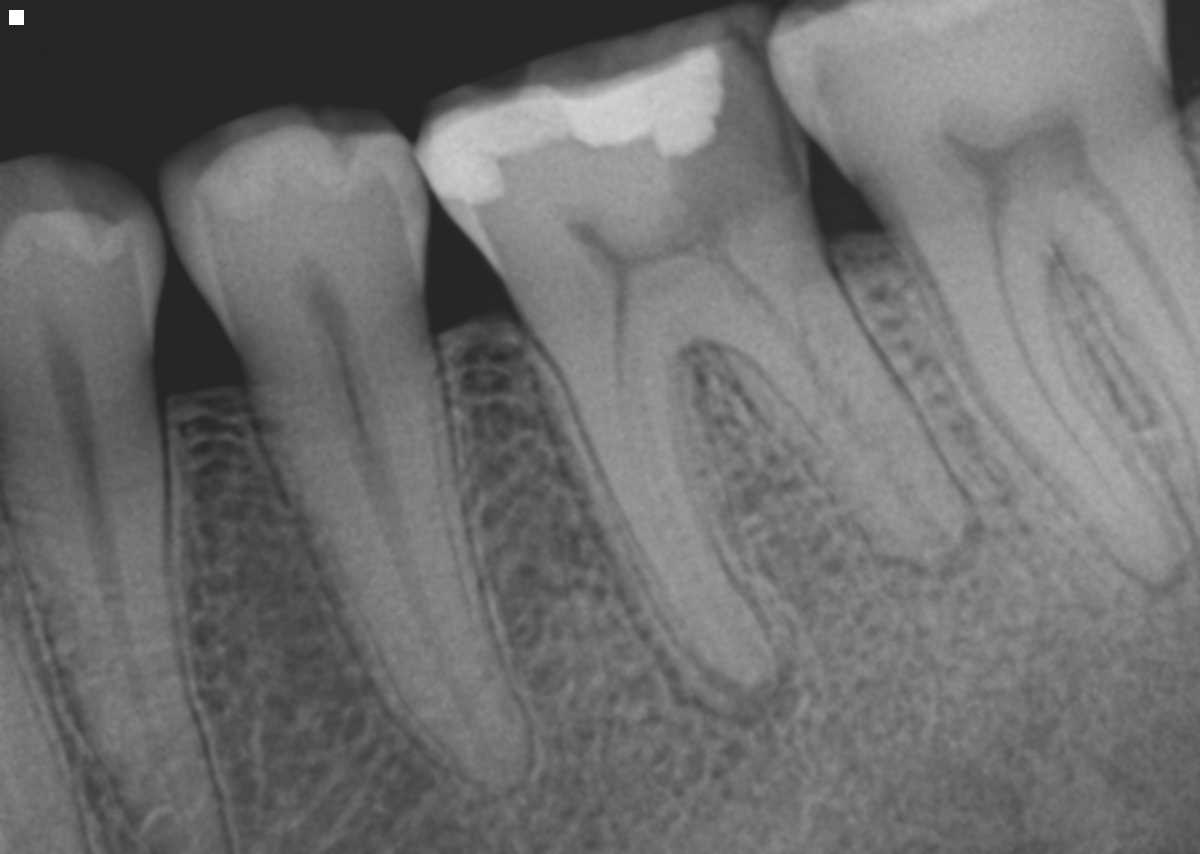Apical Lesion: (686, 620, 801, 730), (882, 507, 986, 591)
Distal Canal: (750, 287, 929, 521), (1097, 198, 1200, 363)
Distal Root: (710, 259, 963, 567), (1063, 157, 1200, 455)
Main Canal: (334, 370, 495, 759), (68, 422, 192, 833)
Main Root: (253, 349, 531, 792), (0, 404, 228, 854)
Mesial Canal: (990, 240, 1167, 558), (609, 295, 637, 442)
Mesial Root: (898, 239, 1182, 580), (530, 326, 767, 685)
decay: (671, 31, 812, 238)
